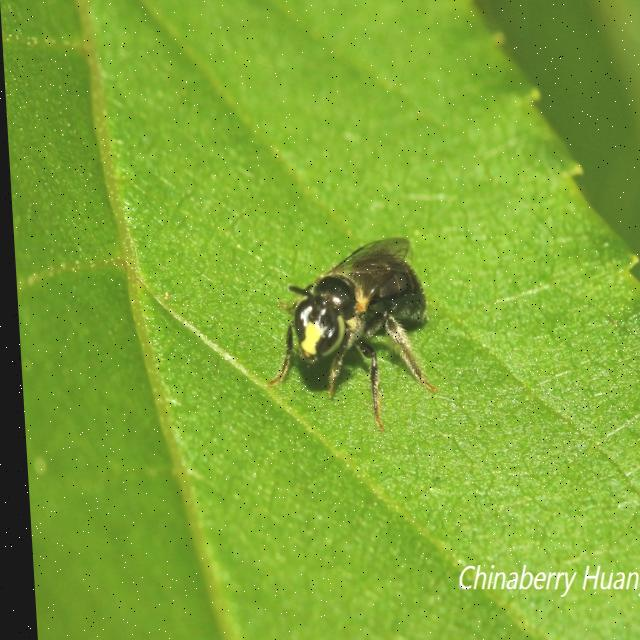Meliponula: (245, 215, 454, 459)
